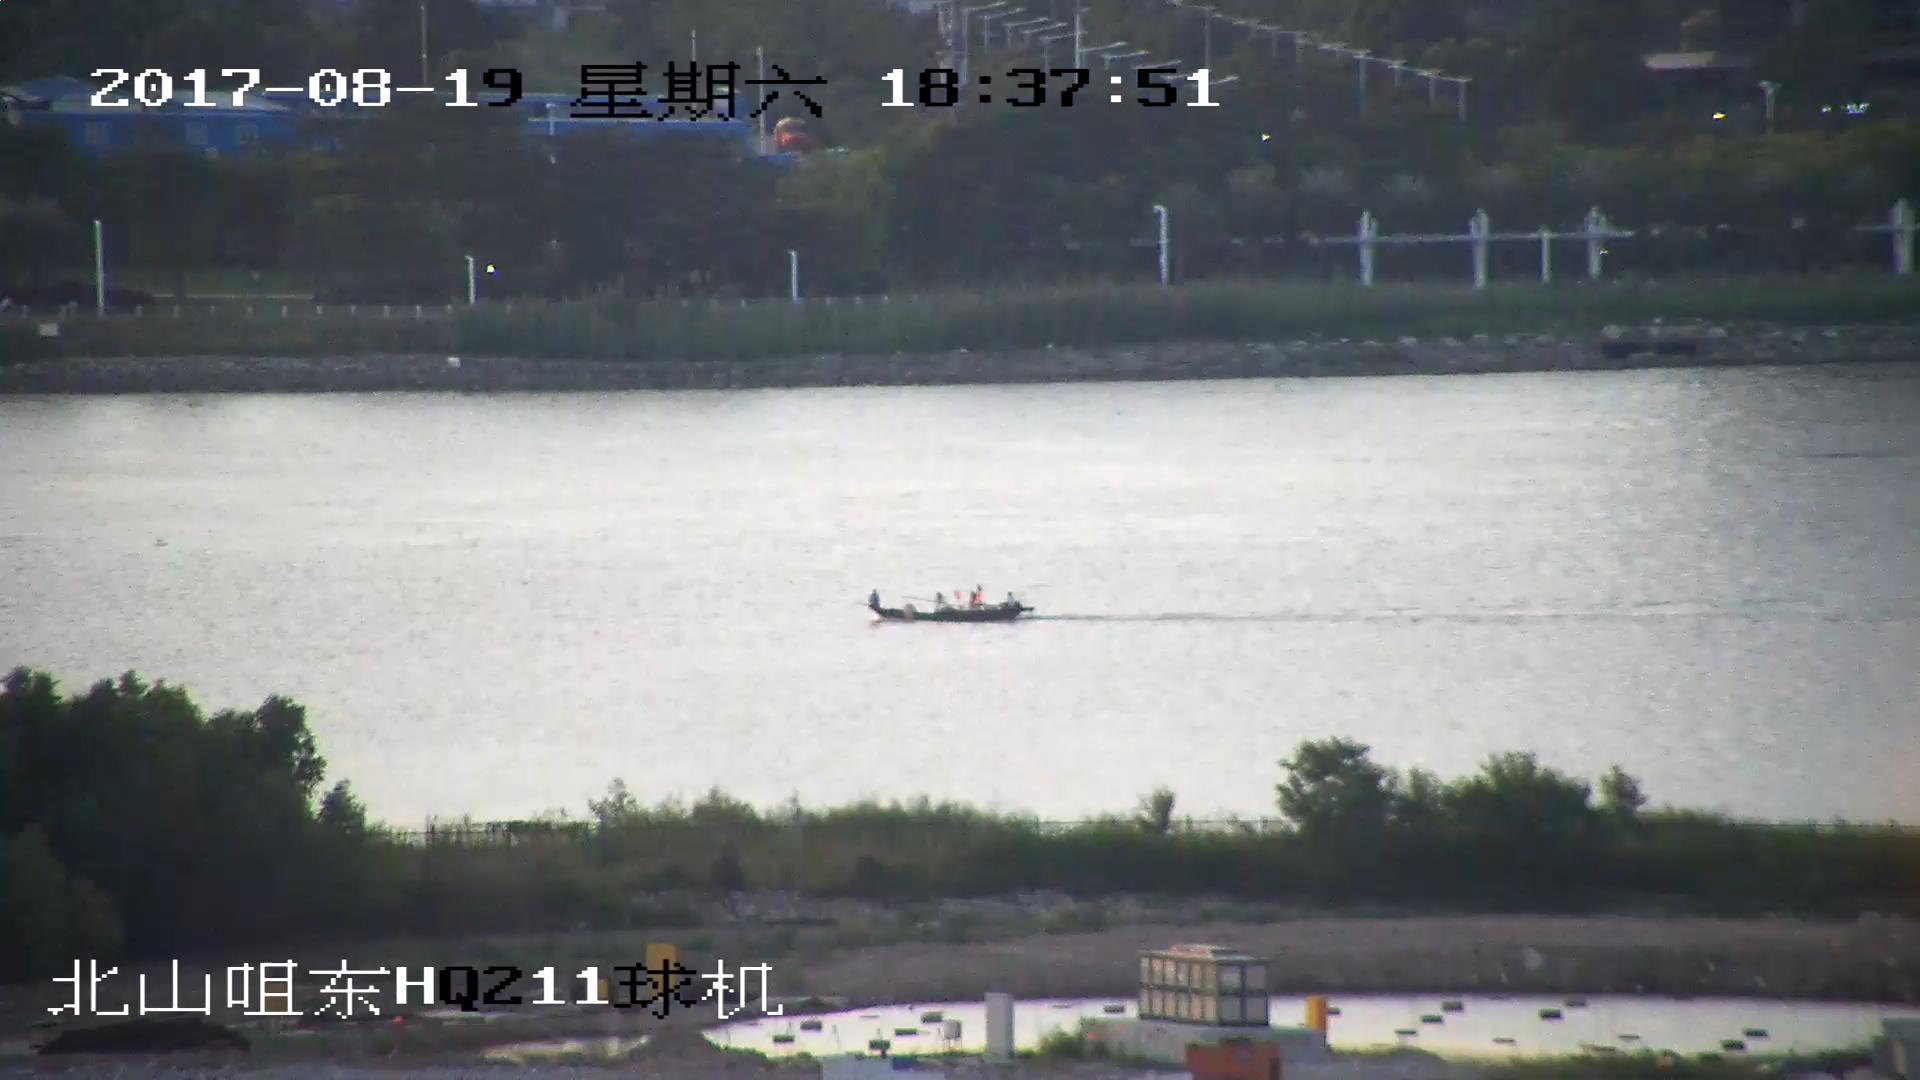fishing boat: (869, 586, 1026, 624)
